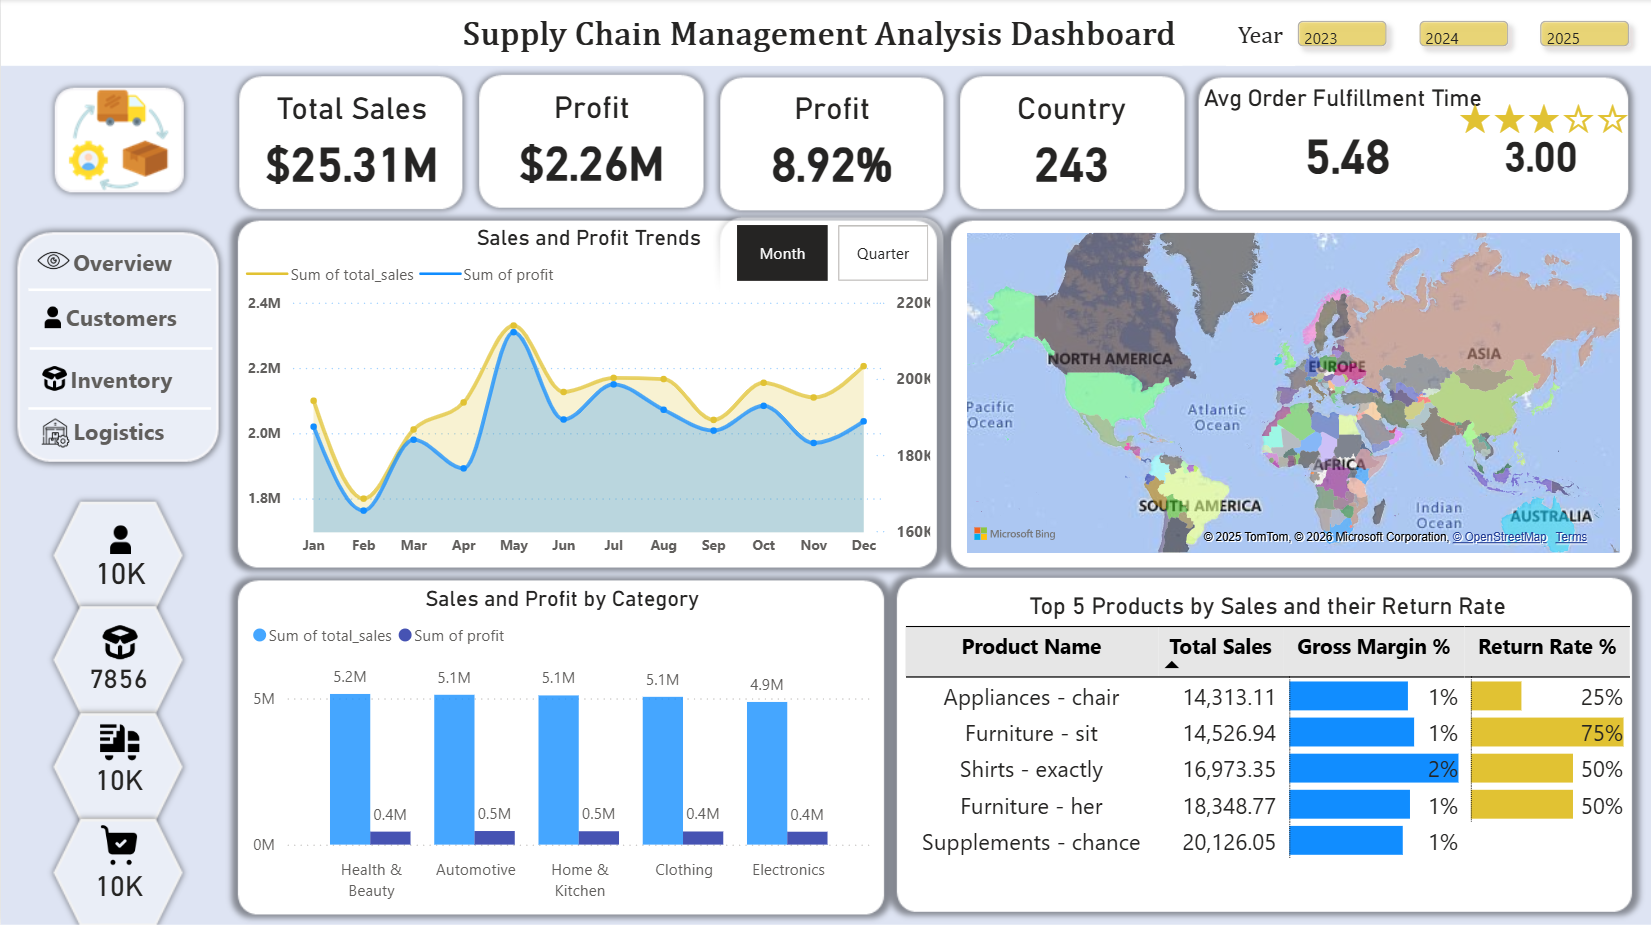

Layout of this report page (visuals, bound fields, positions):
{"tool":"powerbi","page":{"name":"Overview","canvas":[1280,720],"ordinal":0},"visuals":[{"type":"card","title":"Profit","fields":{"Values":["Sum(final_eda_ready_orders.profit)"]},"box":[369.8,69.8,177.9,82.6],"z":0},{"type":"image","box":[21.1,238.9,37.8,16.7],"z":0,"group":"g7"},{"type":"group","id":"g1","title":"Group 3","box":[65.8,407.8,53.5,52.3],"z":0,"group":"g5"},{"type":"image","box":[70.5,407.8,44.2,22.1],"z":0,"group":"g1"},{"type":"image","box":[70.4,485.7,43,26.7],"z":0,"group":"g2"},{"type":"card","fields":{"Values":["final_eda_ready_orders.total_orders"]},"box":[68.1,591.5,47.7,26.7],"z":0,"group":"g3"},{"type":"card","title":"Country","fields":{"Values":["Count(final_eda_ready_orders.country)"]},"box":[744.2,70.9,172.1,81.4],"z":1000},{"type":"image","box":[32.2,283.3,18.9,22.2],"z":1000,"group":"g7"},{"type":"card","fields":{"Values":["Count(final_eda_ready_orders.customer_id)"]},"box":[65.8,429.9,53.5,30.2],"z":1000,"group":"g1"},{"type":"group","id":"g2","title":"Group 4","box":[61.1,485.7,60.5,55.8],"z":1000,"group":"g5"},{"type":"card","fields":{"Values":["Count(final_eda_ready_orders.Product Name)"]},"box":[61.1,512.4,60.5,29.1],"z":1000,"group":"g2"},{"type":"image","box":[73.9,561.3,37.2,30.2],"z":1000,"group":"g3"},{"type":"card","fields":{"Values":["final_eda_ready_orders.avg_rating"]},"box":[1140.7,97.7,107,44.2],"z":2000},{"type":"image","box":[31.1,323.3,22.2,25.6],"z":2000,"group":"g7"},{"type":"group","id":"g3","title":"Group 5","box":[68.1,561.3,47.7,57],"z":2000,"group":"g5"},{"type":"card","title":"Avg Order Fulfillment Time","fields":{"Values":["Avg(final_eda_ready_orders.order_fulfillment_time)"]},"box":[927.9,66.3,232.6,86],"z":3000},{"type":"image","box":[26.7,190,26.7,25.6],"z":3000,"group":"g7"},{"type":"group","id":"g4","title":"Group 6","box":[68.1,634.5,47.7,65.1],"z":3000,"group":"g5"},{"type":"card","fields":{"Values":["final_eda_ready_orders.star_rating"]},"box":[1123.3,75.6,146.5,33.7],"z":4000},{"type":"card","fields":{"Values":["final_eda_ready_orders.total_orders"]},"box":[68.1,672.9,47.7,26.7],"z":4000,"group":"g4"},{"type":"card","title":"Total Sales","fields":{"Values":["Sum(final_eda_ready_orders.total_sales)"]},"box":[186,70.9,172.1,81.4],"z":5000},{"type":"image","box":[72.8,634.5,37.2,41.9],"z":5009,"group":"g4"},{"type":"card","title":"Profit","fields":{"Values":["final_eda_ready_orders.profit_margin %"]},"box":[560.5,70.9,168.6,82.6],"z":6000},{"type":"areaChart","title":"Sales and Profit Trends","fields":{"Category":["final_eda_ready_orders.Month"],"Y":["Sum(final_eda_ready_orders.total_sales)"],"Y2":["Sum(final_eda_ready_orders.profit)"]},"box":[186,174.4,539.5,266.3],"z":7000,"group":"g9"},{"type":"clusteredColumnChart","title":"Sales and Profit by Category","fields":{"Category":["final_eda_ready_orders.category"],"Y":["Sum(final_eda_ready_orders.total_sales)","Sum(final_eda_ready_orders.profit)"]},"box":[189.5,454.7,490.7,252.3],"z":8000},{"type":"filledMap","fields":{"Category":["final_eda_ready_orders.country"],"Series":["final_eda_ready_orders.total_sales"]},"box":[744.4,176.7,515.6,257.8],"z":9000},{"type":"textbox","box":[339.5,8.1,576.7,44.2],"z":10000},{"type":"tableEx","title":"Top 5 Products by Sales and their Return Rate","fields":{"Values":["final_eda_ready_orders.Product Name","Sum(final_eda_ready_orders.total_sales)","final_eda_ready_orders.gross_margin %","final_eda_ready_orders.return_rate %"]},"box":[695.4,460.5,574.4,238.4],"z":11000},{"type":"group","id":"g5","title":"Group 7","box":[61.1,407.8,61.1,291.1],"z":12000},{"type":"actionButton","box":[45.3,186,97.7,34.9],"z":13000},{"type":"shape","box":[20.9,218.6,141.9,12.8],"z":14000,"group":"g6"},{"type":"actionButton","box":[44.2,229.1,97.7,34.9],"z":14000},{"type":"group","id":"g6","title":"Group 1","box":[20.9,218.6,143,104.7],"z":15000},{"type":"shape","box":[22.1,263.9,141.9,12.8],"z":15000,"group":"g6"},{"type":"actionButton","box":[44.2,276.7,97.7,34.9],"z":16000},{"type":"shape","box":[20.9,310.5,141.9,12.8],"z":16000,"group":"g6"},{"type":"actionButton","box":[43,317.4,97.7,34.9],"z":17000},{"type":"group","id":"g7","title":"Group 2","box":[21.1,190,37.8,158.9],"z":18000},{"type":"group","id":"g8","title":"Group 8","box":[950,0,330.2,54.7],"z":19000},{"type":"advancedSlicerVisual","fields":{"Values":["final_eda_ready_orders.delivery_date.Variation.Date Hierarchy.Year"]},"box":[988.4,0,291.9,54.7],"z":19000,"group":"g8"},{"type":"textbox","box":[950,14,53.5,38.4],"z":20000,"group":"g8"},{"type":"advancedSlicerVisual","fields":{"Values":["Parameter.Parameter"]},"box":[566.2,170.9,159.3,53.5],"z":20000,"group":"g9"},{"type":"group","id":"g9","title":"Group 9","box":[186,170.9,539.5,269.8],"z":20001}]}

Visuals, with their boxes in screenshot pixels (x1, y1, x2, y2), scaled from the page's 1280x720 canvas onto the 1651x925 screenshot:
"Profit" card: <box>477,90,706,196</box>
image: <box>27,307,76,328</box>
"Group 3" group: <box>85,524,154,591</box>
image: <box>91,524,148,552</box>
image: <box>91,624,146,658</box>
card - final_eda_ready_orders.total_orders: <box>88,760,149,794</box>
"Country" card: <box>960,91,1182,196</box>
image: <box>42,364,66,392</box>
card - Count(final_eda_ready_orders.customer_id): <box>85,552,154,591</box>
"Group 4" group: <box>79,624,157,696</box>
card - Count(final_eda_ready_orders.Product Name): <box>79,658,157,696</box>
image: <box>95,721,143,760</box>
card - final_eda_ready_orders.avg_rating: <box>1471,126,1609,182</box>
image: <box>40,415,69,448</box>
"Group 5" group: <box>88,721,149,794</box>
"Avg Order Fulfillment Time" card: <box>1197,85,1497,196</box>
image: <box>34,244,69,277</box>
"Group 6" group: <box>88,815,149,899</box>
card - final_eda_ready_orders.star_rating: <box>1449,97,1638,140</box>
card - final_eda_ready_orders.total_orders: <box>88,864,149,899</box>
"Total Sales" card: <box>240,91,462,196</box>
image: <box>94,815,142,869</box>
"Profit" card: <box>723,91,940,197</box>
"Sales and Profit Trends" areaChart: <box>240,224,936,566</box>
"Sales and Profit by Category" clusteredColumnChart: <box>244,584,877,908</box>
filledMap - final_eda_ready_orders.country x final_eda_ready_orders.total_sales: <box>960,227,1625,558</box>
textbox: <box>438,10,1182,67</box>
"Top 5 Products by Sales and their Return Rate" tableEx: <box>897,592,1638,898</box>
"Group 7" group: <box>79,524,158,898</box>
actionButton: <box>58,239,184,284</box>
shape: <box>27,281,210,297</box>
actionButton: <box>57,294,183,339</box>
"Group 1" group: <box>27,281,211,415</box>
shape: <box>29,339,212,355</box>
actionButton: <box>57,355,183,400</box>
shape: <box>27,399,210,415</box>
actionButton: <box>55,408,181,453</box>
"Group 2" group: <box>27,244,76,448</box>
"Group 8" group: <box>1225,0,1650,70</box>
advancedSlicerVisual - final_eda_ready_orders.delivery_date.Variation.Date Hierarchy.Year: <box>1275,0,1650,70</box>
textbox: <box>1225,18,1294,67</box>
advancedSlicerVisual - Parameter.Parameter: <box>730,220,936,288</box>
"Group 9" group: <box>240,220,936,566</box>
